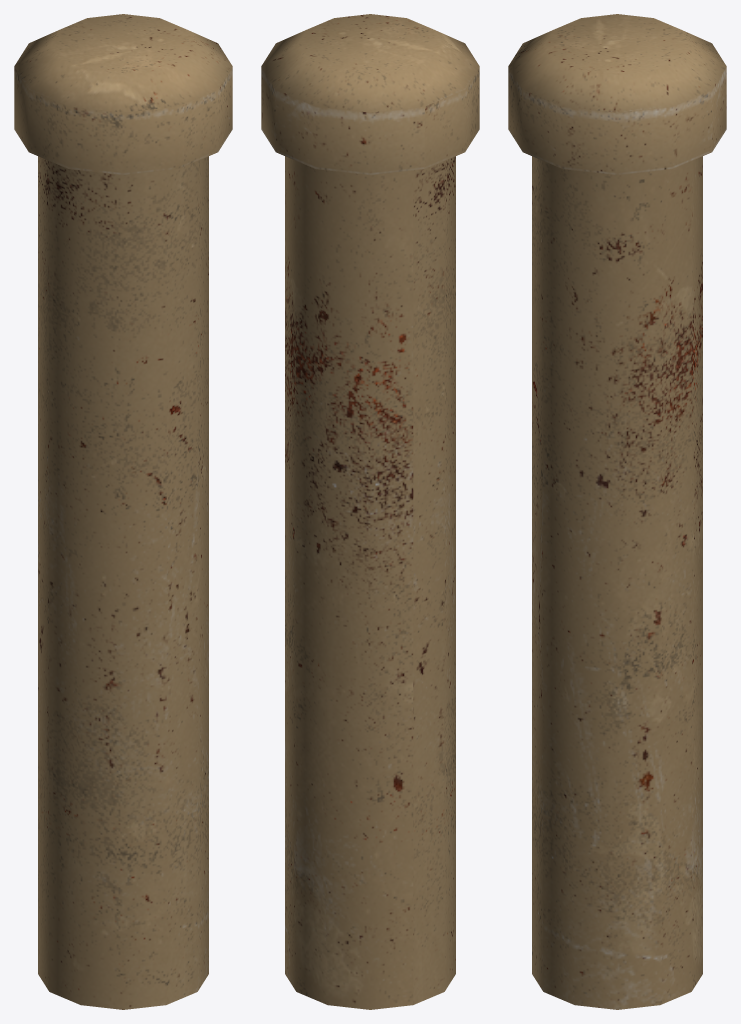
Rendered from prp_metalPillar.FBX.
3 renders of one model, left to right at view 1: azimuth 30°, elevation 25°; view 2: azimuth 150°, elevation 25°; view 3: azimuth 270°, elevation 25°, orthographic.
Visible parts, largest first — view 1: prp_metalPillar; view 2: prp_metalPillar; view 3: prp_metalPillar.
Boxes of the visible parts, x1=… form: prp_metalPillar: x1=14, y1=14, x2=232, y2=1009; prp_metalPillar: x1=261, y1=14, x2=479, y2=1009; prp_metalPillar: x1=508, y1=14, x2=726, y2=1009.
Size of what is drawn, in the model's own units: 24.1 by 24.1 by 113.
